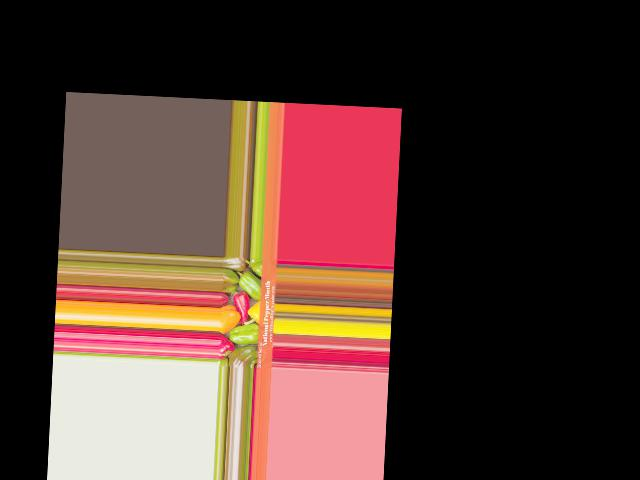bell_pepper: (228, 345, 258, 368)
